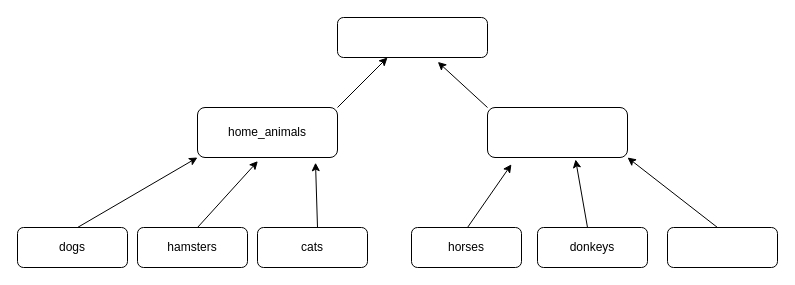
This 795x285 diagram has some shape labels left out. The box of each missing label's shape, as (x1, y1, x2, y2) in pixels:
animals: (336, 16, 488, 58)
pack_animals: (486, 106, 628, 158)
